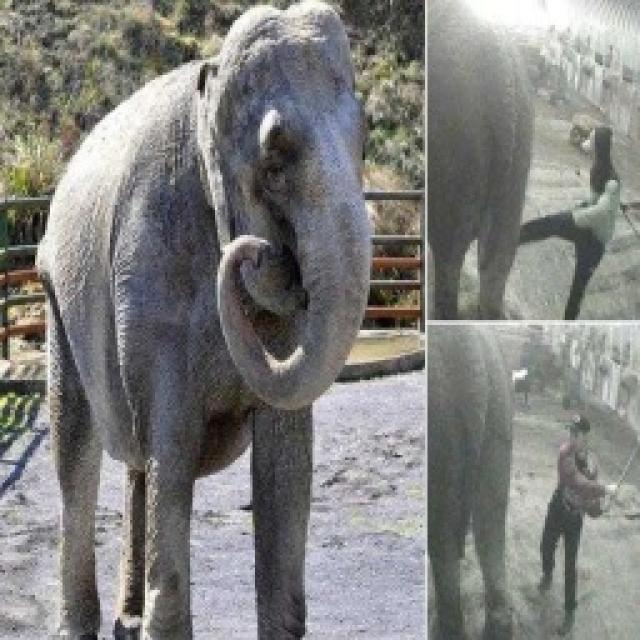not_pig: (32, 0, 372, 638), (425, 0, 535, 318), (428, 322, 530, 640)
